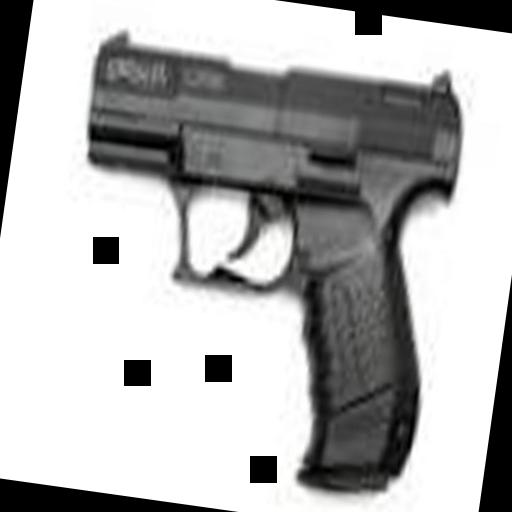Handgun: (42, 20, 470, 500)
